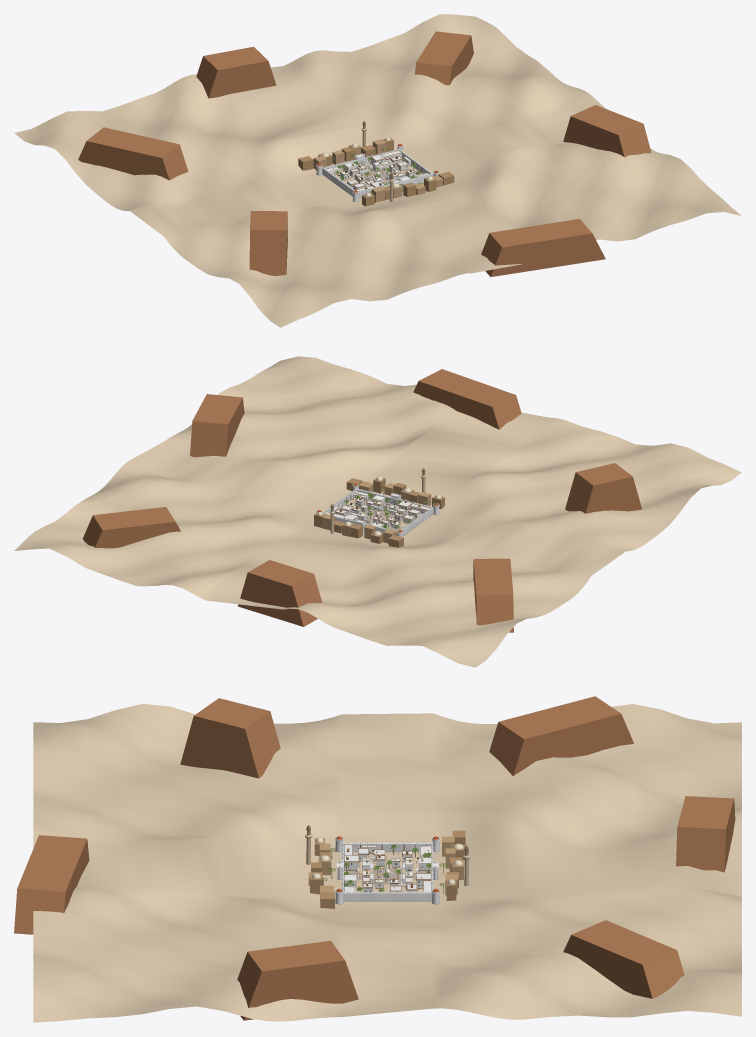
The model's file is desert.glb.
3 renders of one model, top to bottom at view 1: azimuth 30°, elevation 25°; view 2: azimuth 150°, elevation 25°; view 3: azimuth 270°, elevation 25°, orthographic. The views are drawn at different scales.
Parts seen in each view (by area): view 1: desert_dune, desert_far, desert_mud, desert_trim, desert_plaster; view 2: desert_dune, desert_far, desert_mud, desert_trim, desert_plaster; view 3: desert_dune, desert_far, desert_mud, desert_trim, desert_plaster, desert_sand.
Boxes of the visible parts, x1=… form: desert_dune: x1=14, y1=14, x2=741, y2=327; desert_far: x1=78, y1=31, x2=651, y2=276; desert_mud: x1=316, y1=144, x2=439, y2=201; desert_trim: x1=326, y1=150, x2=429, y2=190; desert_plaster: x1=331, y1=151, x2=427, y2=191; desert_dune: x1=14, y1=356, x2=741, y2=667; desert_far: x1=82, y1=369, x2=641, y2=632; desert_mud: x1=316, y1=483, x2=439, y2=536; desert_trim: x1=325, y1=491, x2=430, y2=530; desert_plaster: x1=325, y1=494, x2=430, y2=529; desert_dune: x1=33, y1=704, x2=741, y2=1022; desert_far: x1=14, y1=696, x2=735, y2=1020; desert_mud: x1=335, y1=836, x2=440, y2=904; desert_trim: x1=344, y1=844, x2=431, y2=892; desert_plaster: x1=344, y1=844, x2=430, y2=892; desert_sand: x1=344, y1=852, x2=430, y2=892.
Size of the model in its own units: 520 by 44.88 by 534.
Materials: 26 (6 with a texture image).
